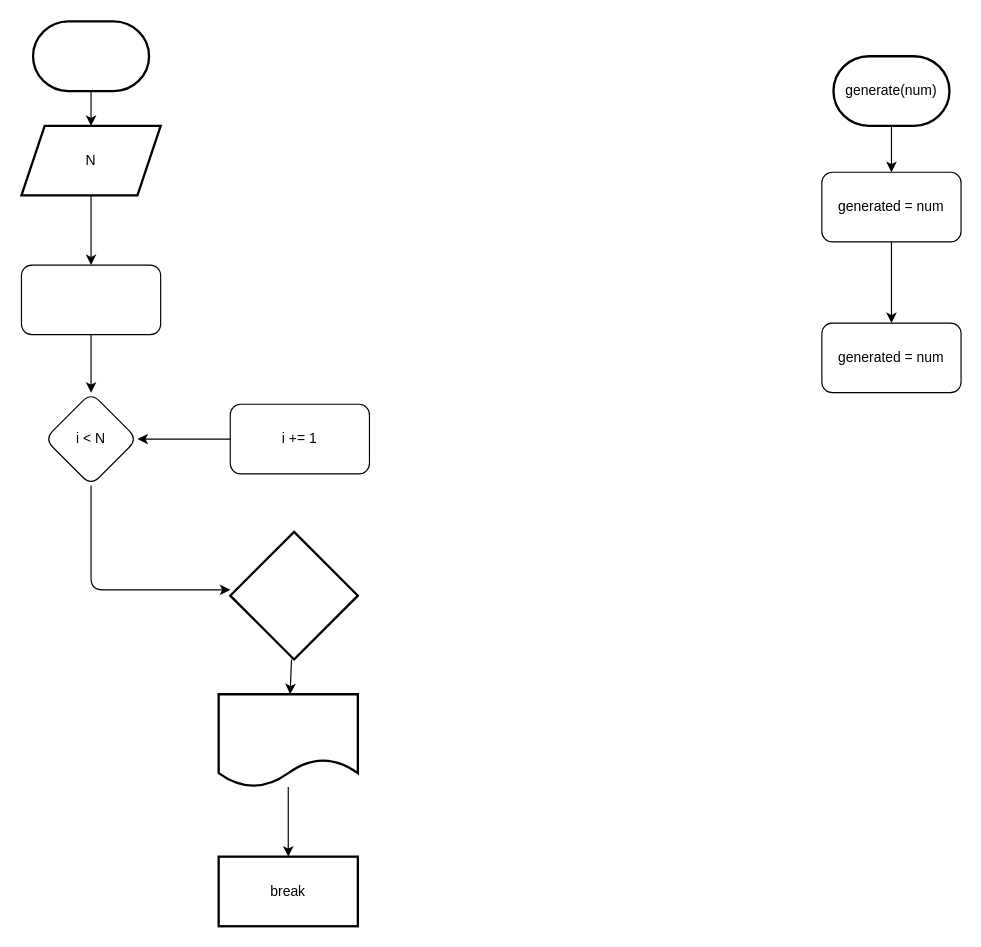
Image size: 981x947. Some labels were removed from this diagram. Each missing label, with the box of its shape:
generate(i): (217, 693, 358, 788)
generate(i) == N: (229, 530, 358, 660)
i = 1: (20, 264, 161, 335)
start: (31, 20, 150, 92)
